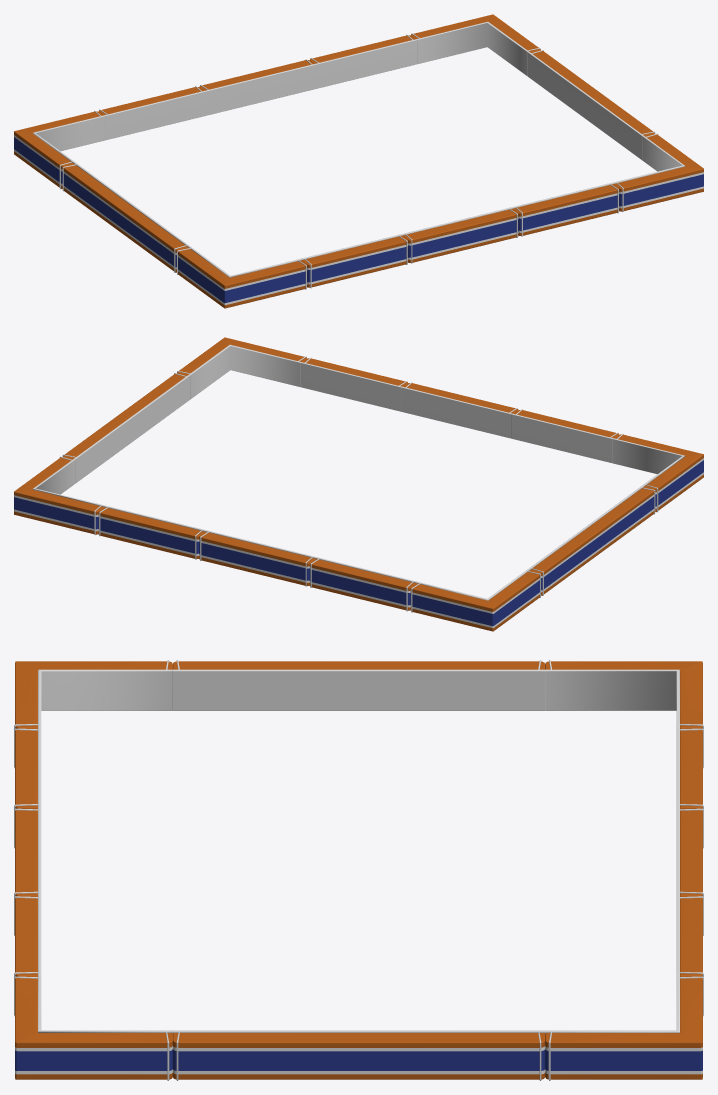
Rendered from SM_led_board_preset.fbx.
3 views of the same model, one above another, from view 1: azimuth 30°, elevation 25°; view 2: azimuth 150°, elevation 25°; view 3: azimuth 270°, elevation 25° (orthographic). The views are drawn at different scales.
Visible parts, largest first — view 1: Object32369; view 2: Object32369; view 3: Object32369.
Part boxes in pixels (x1,y1,x2,y2): Object32369: [14, 14, 703, 308]; Object32369: [14, 337, 703, 631]; Object32369: [14, 660, 703, 1080].
Bounding box in the file's own units: 1702 × 83.33 × 1298.
